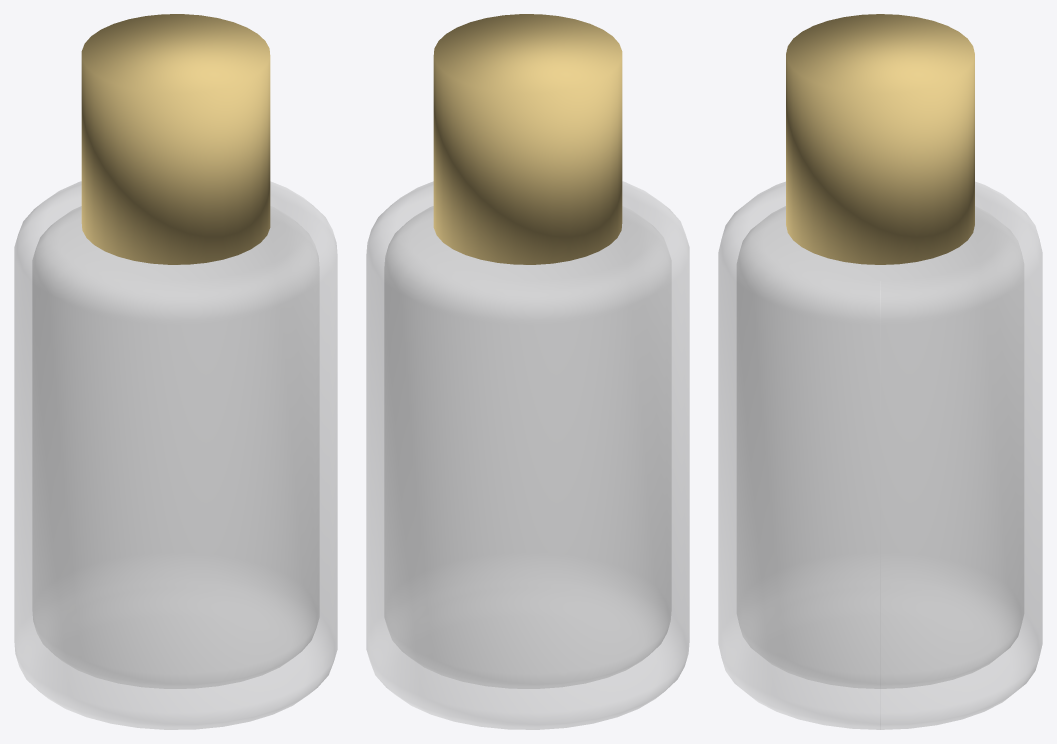
File: test_bottle.glb
The picture shows the model from 3 angles, left to right: view 1: azimuth 30°, elevation 25°; view 2: azimuth 150°, elevation 25°; view 3: azimuth 270°, elevation 25°; orthographic projection.
Visible parts, largest first — view 1: Outter, Inner, Cap; view 2: Outter, Inner, Cap; view 3: Outter, Inner, Cap.
Part boxes in pixels (left/top/right/bottom): Outter: left=14, top=181, right=337, bottom=729; Inner: left=32, top=206, right=319, bottom=688; Cap: left=81, top=14, right=270, bottom=264; Outter: left=366, top=181, right=689, bottom=729; Inner: left=384, top=206, right=671, bottom=688; Cap: left=433, top=14, right=622, bottom=264; Outter: left=718, top=182, right=1042, bottom=729; Inner: left=737, top=206, right=1023, bottom=688; Cap: left=786, top=14, right=974, bottom=264.
Size of the model in its own units: 0.02 by 0.0421 by 0.02.
